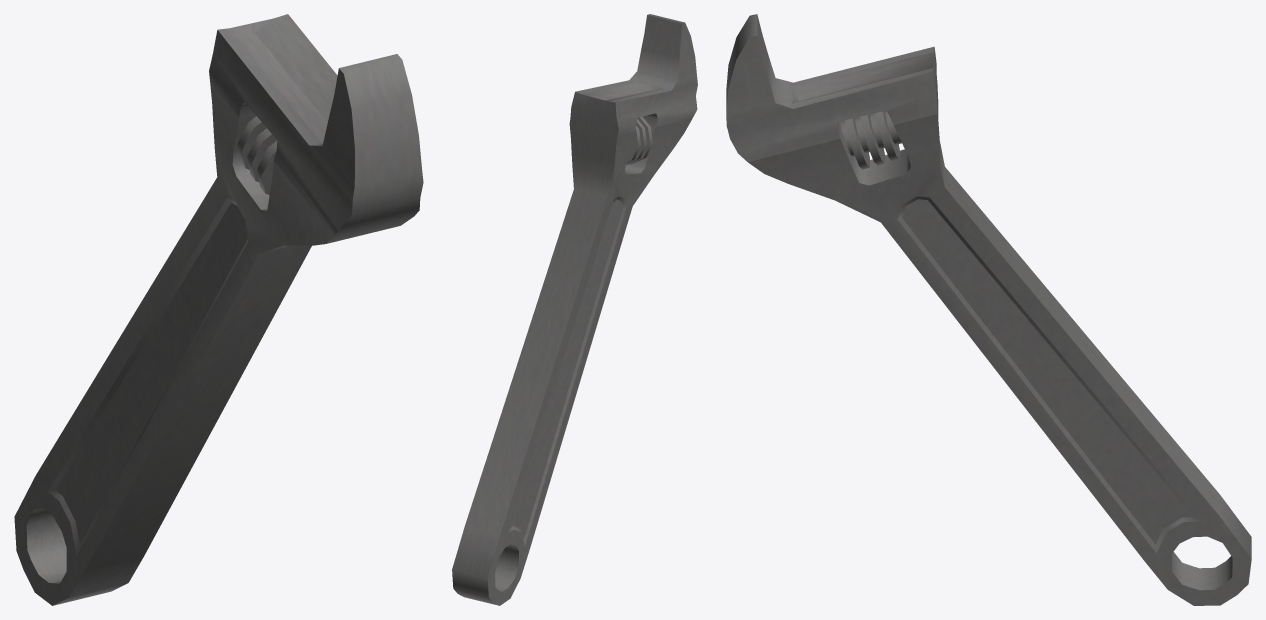
Rendered from Wrench.FBX.
3 renders of one model, left to right at view 1: azimuth 30°, elevation 25°; view 2: azimuth 150°, elevation 25°; view 3: azimuth 270°, elevation 25°, orthographic. The views are drawn at different scales.
Visible parts, largest first — view 1: Wrench; view 2: Wrench; view 3: Wrench.
Boxes of the visible parts, box(x1,y1,x2,y2) form: Wrench: box(14, 14, 423, 605); Wrench: box(452, 14, 697, 605); Wrench: box(726, 14, 1251, 605).
Size of the model in its own units: 1.82 by 15.58 by 13.01.
